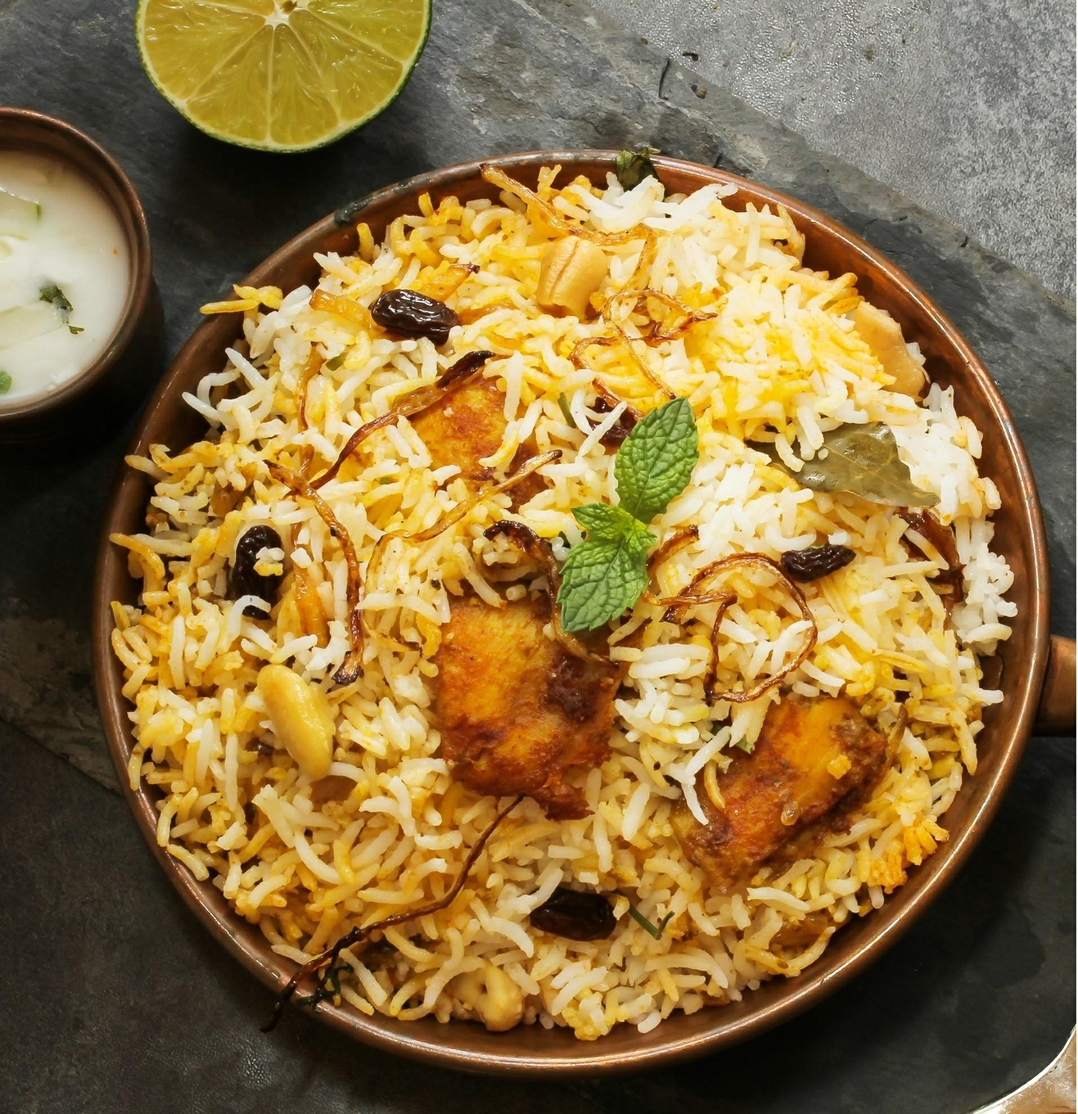Biryani: (105, 161, 1014, 1041)
